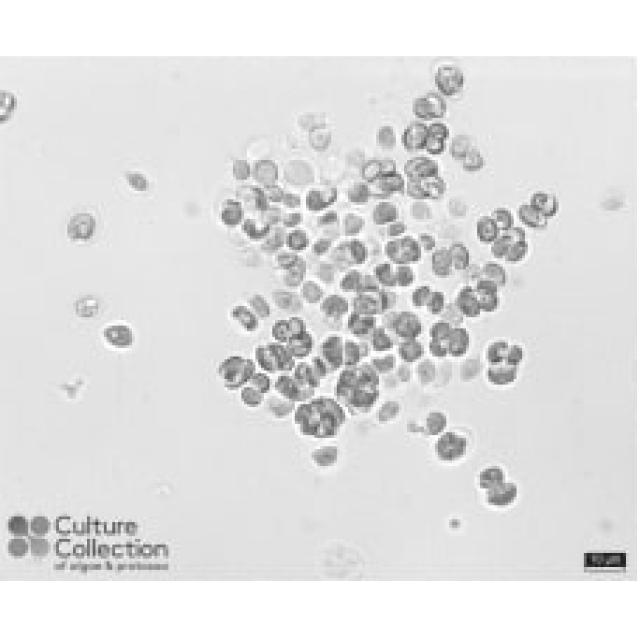Green Algae: (101, 323, 138, 351), (64, 210, 96, 242), (435, 65, 466, 98), (516, 202, 548, 233), (70, 292, 104, 320), (390, 309, 424, 337), (399, 124, 432, 152), (413, 93, 449, 118), (435, 432, 466, 460), (216, 351, 244, 382), (455, 289, 483, 320), (252, 340, 280, 370), (530, 191, 562, 216), (233, 300, 258, 332), (486, 362, 519, 385), (124, 166, 152, 193), (404, 157, 441, 177), (374, 199, 402, 225), (449, 244, 475, 272), (472, 216, 499, 242), (219, 200, 244, 228), (323, 334, 345, 365), (491, 205, 517, 230), (508, 236, 531, 264), (255, 157, 278, 185), (421, 177, 446, 202), (306, 188, 337, 208), (432, 247, 452, 278), (289, 227, 312, 253), (373, 261, 396, 286), (398, 340, 424, 362), (460, 149, 486, 171), (351, 236, 368, 269), (407, 174, 427, 202), (399, 236, 421, 261), (295, 365, 320, 387), (427, 337, 452, 359), (289, 334, 312, 357), (230, 157, 250, 183), (449, 326, 472, 348), (491, 486, 517, 505), (410, 283, 429, 309), (253, 368, 272, 393), (429, 289, 446, 315), (241, 385, 261, 407), (480, 469, 502, 488), (427, 413, 446, 435), (427, 121, 449, 140), (477, 280, 500, 298), (272, 320, 292, 340), (480, 292, 500, 312), (488, 340, 506, 362), (362, 160, 379, 180), (511, 345, 525, 368), (398, 264, 412, 286)
